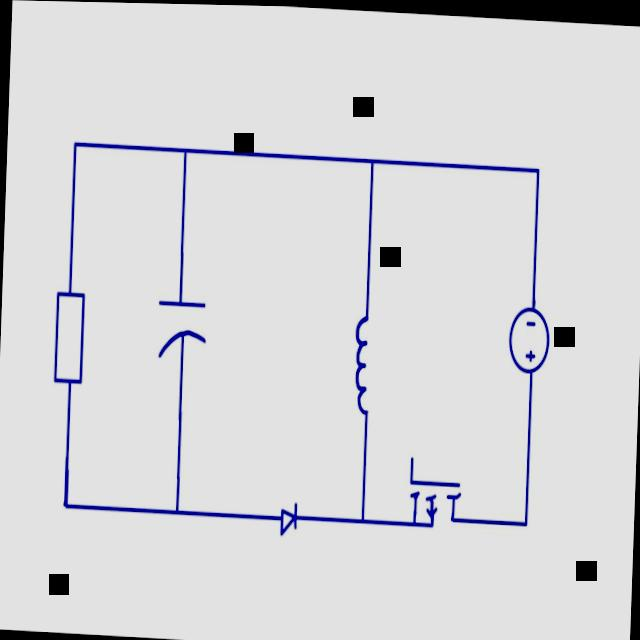capacitor: (145, 265, 221, 384)
diode: (264, 483, 311, 540)
inductor: (336, 287, 386, 441)
mosfet: (402, 454, 476, 545)
resistor: (43, 270, 93, 397)
source: (494, 295, 555, 384)
